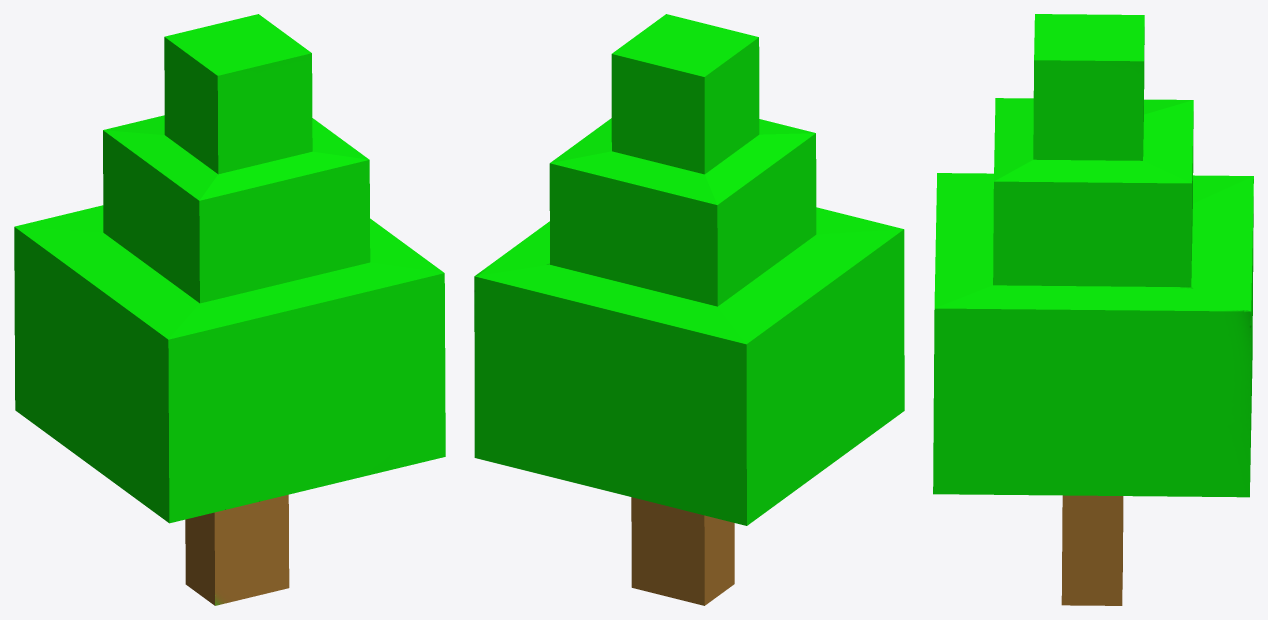
File: wood.glb
3 views of the same model, side by side, from view 1: azimuth 30°, elevation 25°; view 2: azimuth 150°, elevation 25°; view 3: azimuth 270°, elevation 25° (orthographic).
Parts seen in each view (by area): view 1: 立方体.001; view 2: 立方体.001; view 3: 立方体.001.
Boxes of the visible parts, x1,y1,x2,y2 form: 立方体.001: [14, 14, 445, 605]; 立方体.001: [474, 14, 904, 605]; 立方体.001: [933, 14, 1253, 605].
Size of the model in its own units: 2.02 by 3.78 by 2.
1 material, 1 textured.
